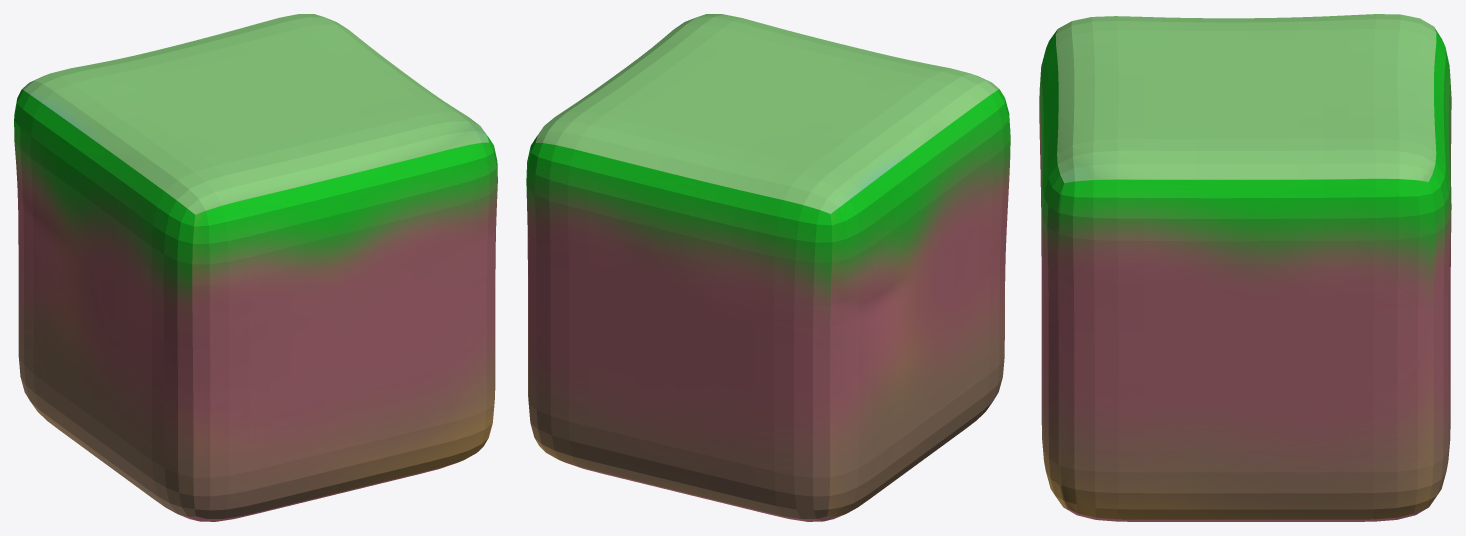
The model's file is Ground.fbx.
3 renders of one model, left to right at view 1: azimuth 30°, elevation 25°; view 2: azimuth 150°, elevation 25°; view 3: azimuth 270°, elevation 25°, orthographic. The views are drawn at different scales.
Parts seen in each view (by area): view 1: Cube; view 2: Cube; view 3: Cube.
Boxes of the visible parts, x1=… form: Cube: x1=14, y1=14, x2=497, y2=521; Cube: x1=526, y1=14, x2=1010, y2=521; Cube: x1=1039, y1=14, x2=1451, y2=521.
Bounding box in the file's own units: 201 × 201 × 202.
